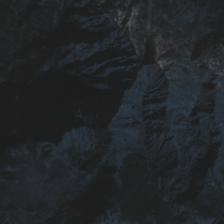landslides: (168, 79, 178, 93)
